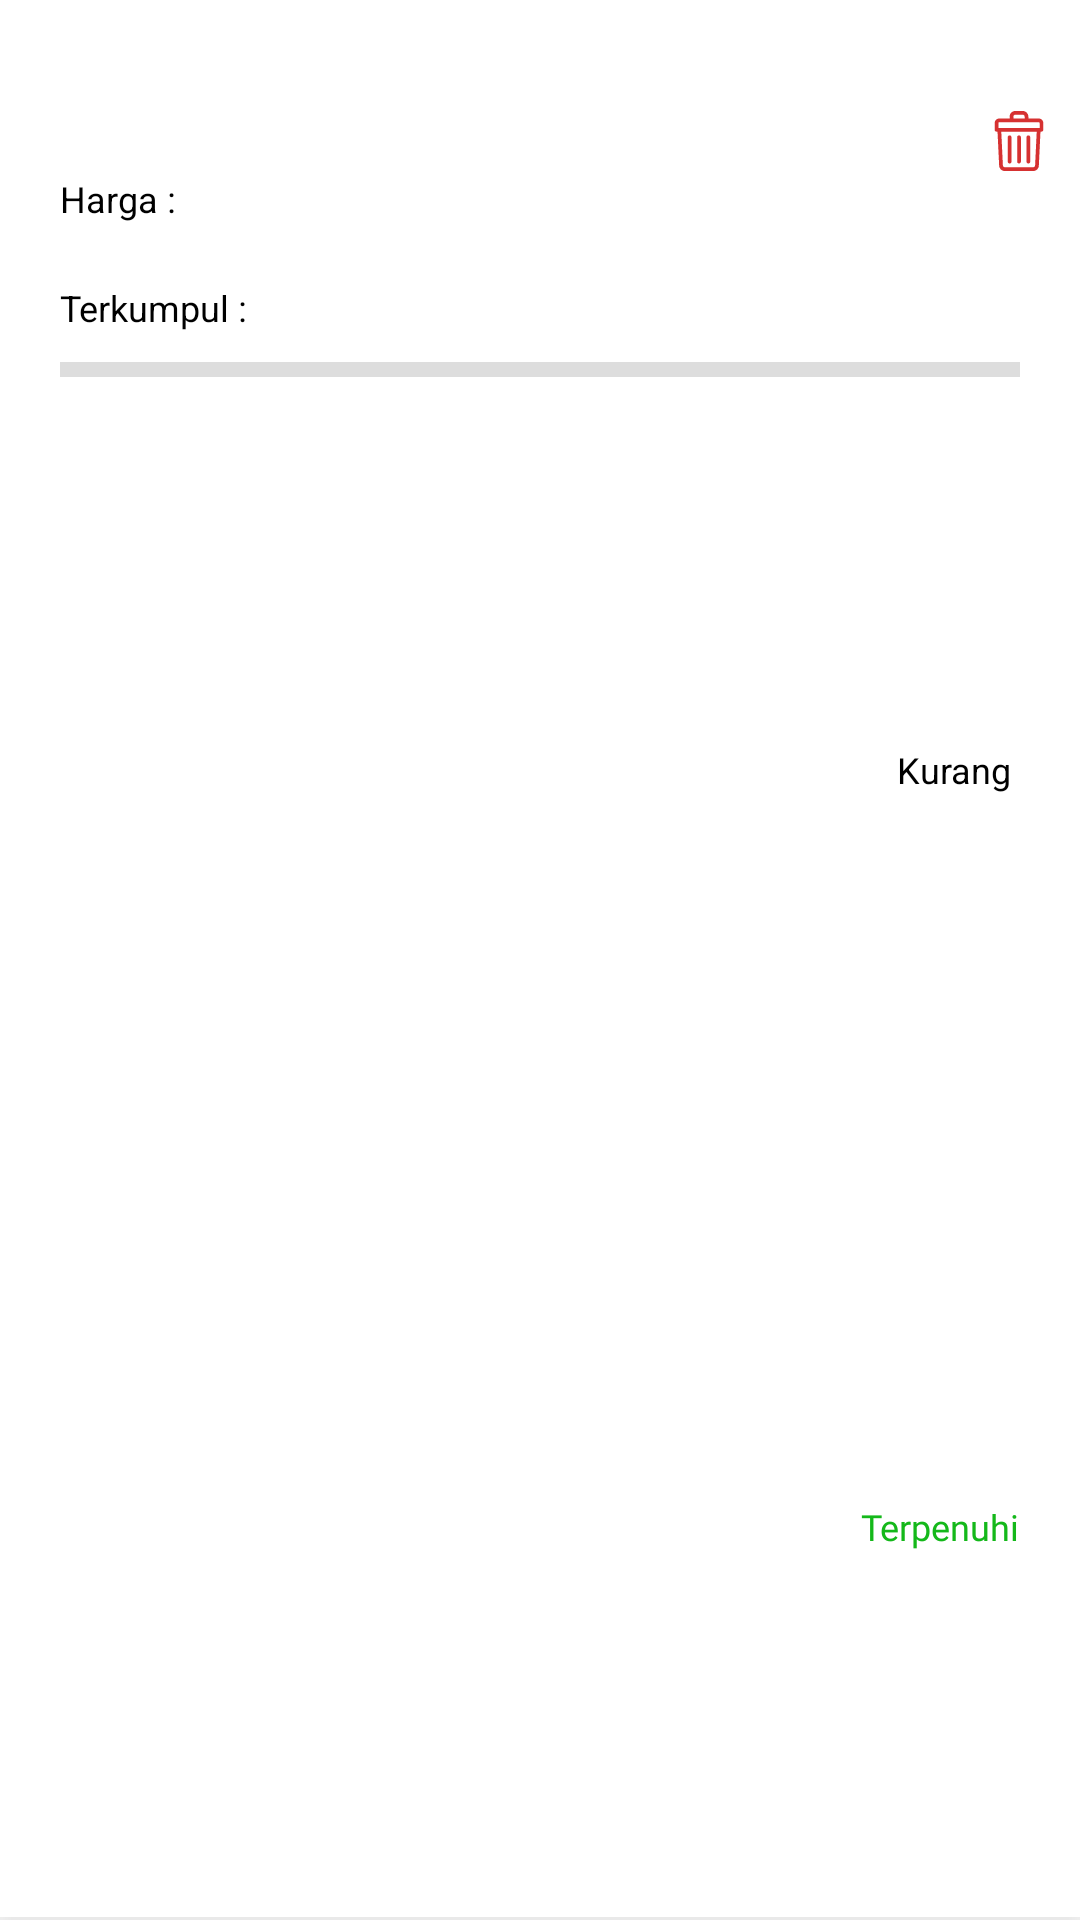

Where icons sit on this 1080px x 1920px app screen, as {"x1": x1, "y1": y1, "x2": x2, "y2": y2}:
trash: {"x1": 994, "y1": 111, "x2": 1044, "y2": 171}
